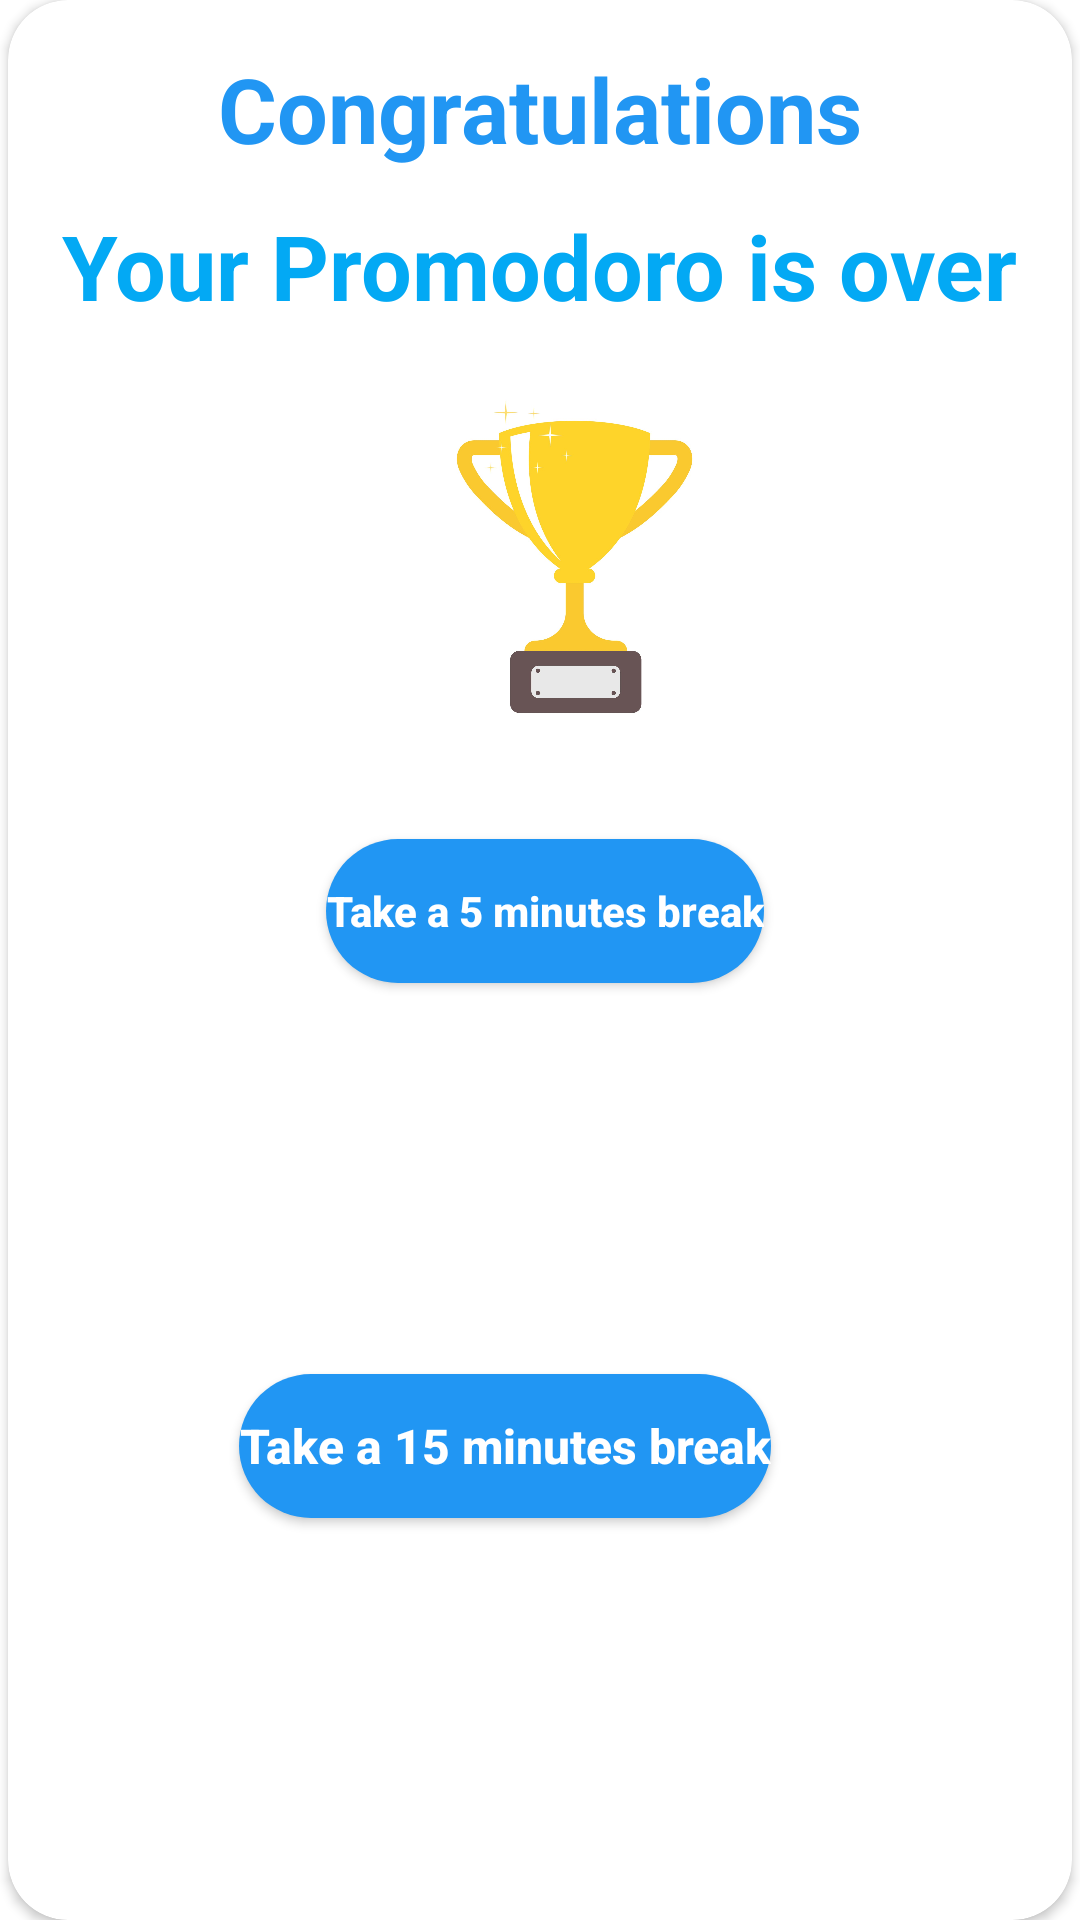

Icon bounding boxes for this 1080px×1920px phone screenshot, format (x1, y1, x2, y2):
prize: (457, 402, 692, 713)
